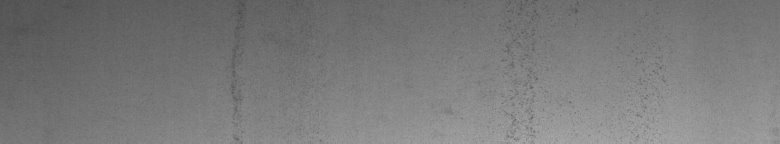ib: (446, 4, 654, 136)
